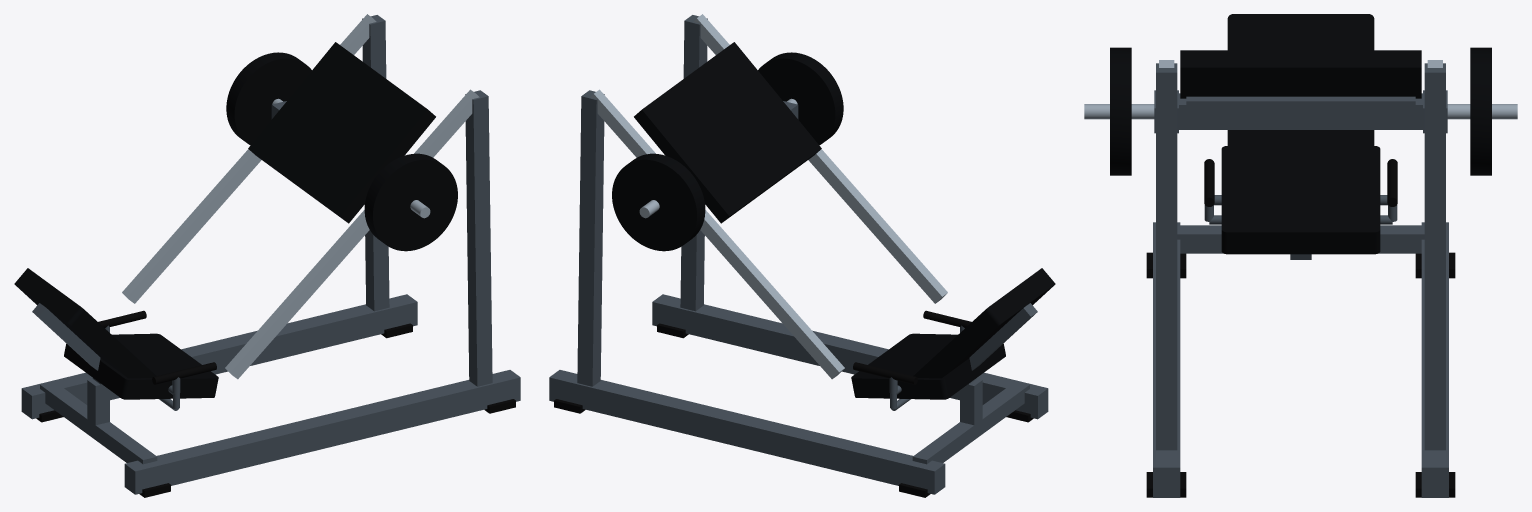
Rendered from cad_leg_press.glb.
3 views of the same model, side by side, from view 1: azimuth 30°, elevation 25°; view 2: azimuth 150°, elevation 25°; view 3: azimuth 270°, elevation 25° (orthographic). The views are drawn at different scales.
Visible parts, largest first — view 1: 000_Leg press base rail, 016_Inclined sled footplate, 022_Sled weight plate, 003_Inclined press rail, 013_Reclined seat base, 010_Leg press seat base crossmember, 001_Rubber floor foot, 024_Seated safety handle; view 2: 000_Leg press base rail, 016_Inclined sled footplate, 022_Sled weight plate, 003_Inclined press rail, 013_Reclined seat base, 010_Leg press seat base crossmember, 001_Rubber floor foot, 024_Seated safety handle; view 3: 013_Reclined seat base, 000_Leg press base rail, 016_Inclined sled footplate, 022_Sled weight plate, 017_Sled crossbeam, 010_Leg press seat base crossmember, 018_Footplate mounting saddle, 021_Sled load bar, 001_Rubber floor foot, 024_Seated safety handle.
Part boxes in pixels (left/top/right/bottom): 000_Leg press base rail: left=21, top=15, right=520, bottom=494; 016_Inclined sled footplate: left=248, top=42, right=435, bottom=223; 022_Sled weight plate: left=226, top=52, right=457, bottom=251; 003_Inclined press rail: left=122, top=14, right=479, bottom=379; 013_Reclined seat base: left=14, top=268, right=218, bottom=399; 010_Leg press seat base crossmember: left=32, top=303, right=178, bottom=464; 001_Rubber floor foot: left=36, top=323, right=515, bottom=497; 024_Seated safety handle: left=98, top=310, right=216, bottom=384; 000_Leg press base rail: left=549, top=15, right=1048, bottom=494; 016_Inclined sled footplate: left=634, top=42, right=821, bottom=223; 022_Sled weight plate: left=612, top=52, right=843, bottom=251; 003_Inclined press rail: left=590, top=14, right=947, bottom=379; 013_Reclined seat base: left=851, top=268, right=1055, bottom=399; 010_Leg press seat base crossmember: left=891, top=303, right=1037, bottom=464; 001_Rubber floor foot: left=554, top=323, right=1033, bottom=497; 024_Seated safety handle: left=853, top=310, right=971, bottom=384; 013_Reclined seat base: left=1221, top=14, right=1380, bottom=254; 000_Leg press base rail: left=1153, top=63, right=1448, bottom=497; 016_Inclined sled footplate: left=1180, top=50, right=1421, bottom=98; 022_Sled weight plate: left=1110, top=47, right=1491, bottom=175; 017_Sled crossbeam: left=1177, top=93, right=1422, bottom=129; 010_Leg press seat base crossmember: left=1177, top=195, right=1424, bottom=259; 018_Footplate mounting saddle: left=1186, top=96, right=1415, bottom=108; 021_Sled load bar: left=1084, top=104, right=1517, bottom=119; 001_Rubber floor foot: left=1146, top=252, right=1455, bottom=497; 024_Seated safety handle: left=1204, top=159, right=1397, bottom=206.
Size of the model in its own units: 2.11 by 1.5 by 1.42.
